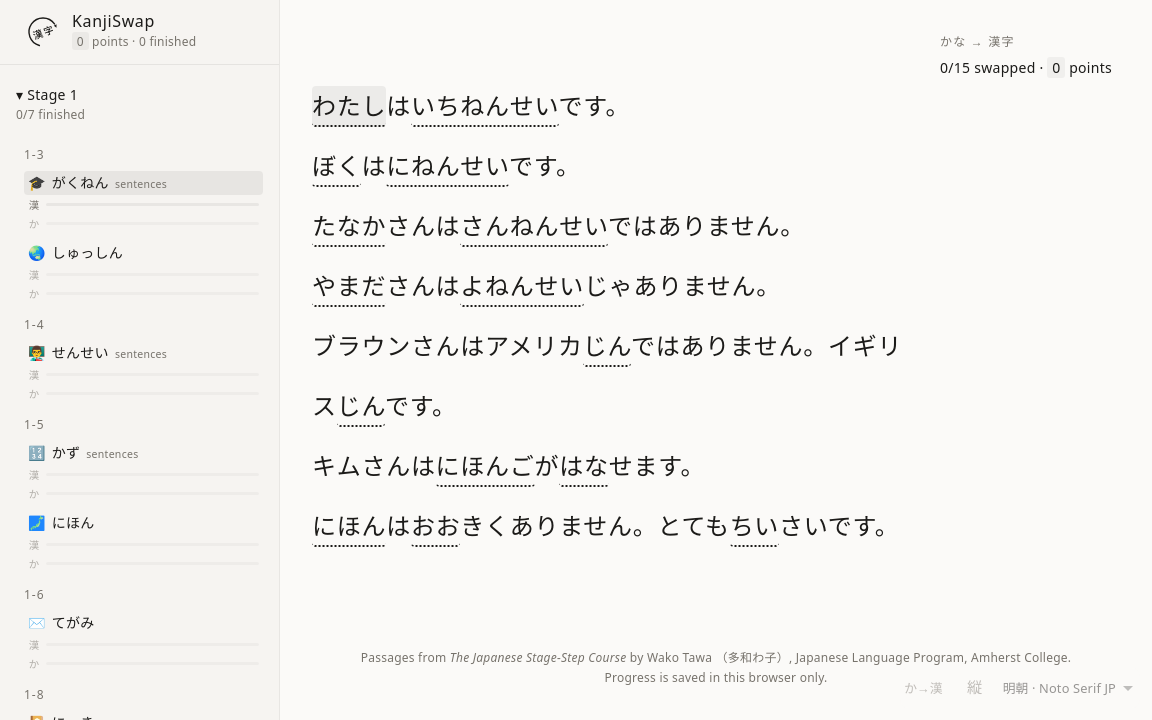
it: the two directions › switches the exercise round, and remembers which way it was
Check: the text "かな → 漢字" is shown, box x1=940 y1=33 x2=1015 y2=50
Click the button named "exercise direction": (924,688) x1=900 y1=668 x2=947 y2=708
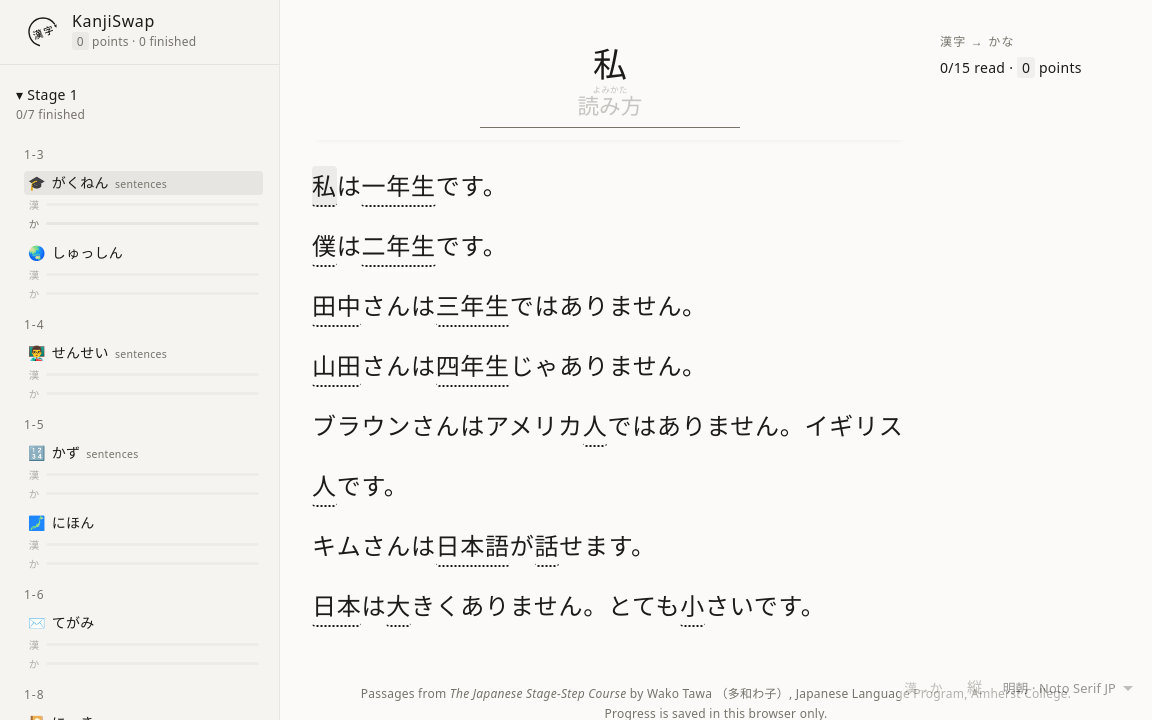
Check: the text "漢字 → かな" is shown, box x1=940 y1=33 x2=1015 y2=50
